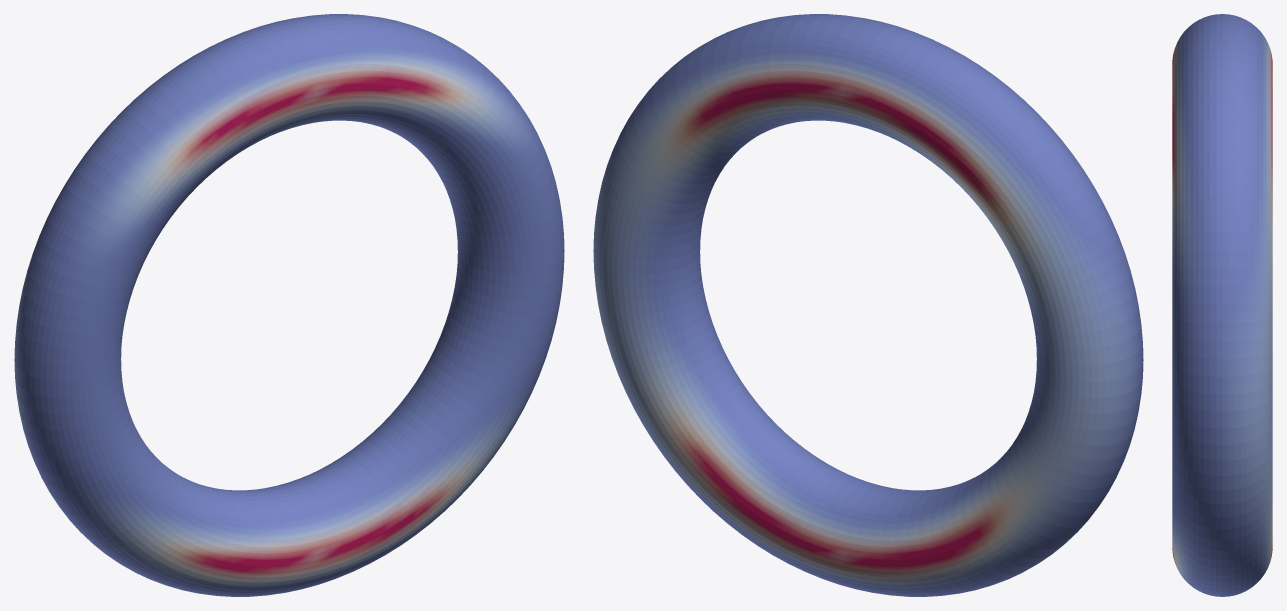
The picture shows the model from 3 angles, left to right: view 1: azimuth 30°, elevation 25°; view 2: azimuth 150°, elevation 25°; view 3: azimuth 270°, elevation 25°; orthographic projection. The views are drawn at different scales.
Visible parts, largest first — view 1: world; view 2: world; view 3: world.
Part boxes in pixels (bbox=[...]): world: bbox=[14, 14, 564, 596]; world: bbox=[593, 14, 1143, 596]; world: bbox=[1172, 14, 1272, 596].
Size of the model in its own units: 19.33 by 19.33 by 3.33.
